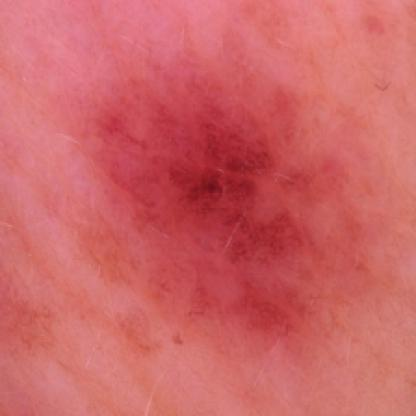benign: (132, 61, 332, 344)
